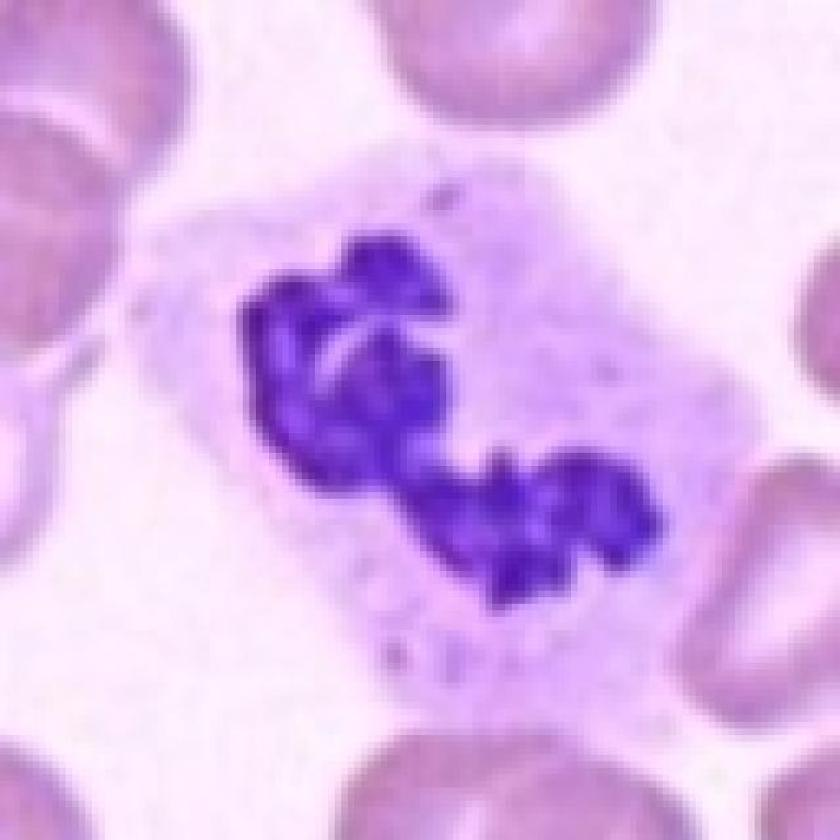neutrophil: (181, 177, 735, 676)
